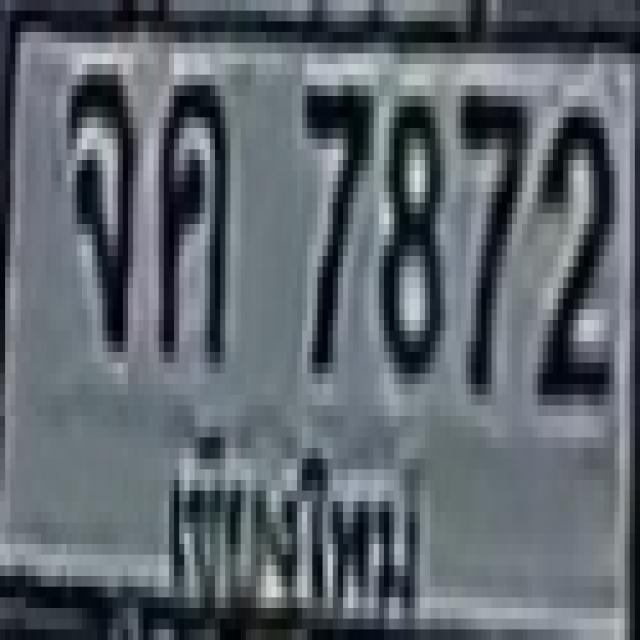2: (535, 104, 612, 402)
7: (458, 90, 524, 388), (303, 81, 369, 369)
8: (378, 90, 445, 378)
A04: (154, 74, 227, 360)
A08: (64, 64, 134, 354)
CMI: (150, 413, 428, 628)
